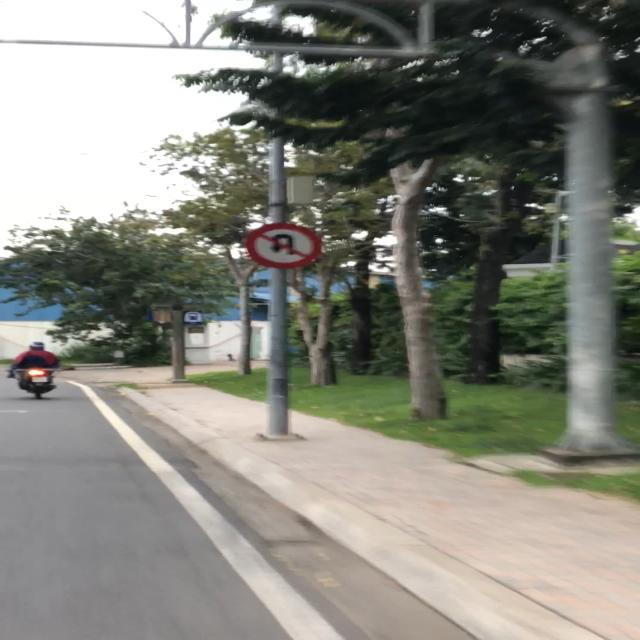Bien bao cam quay dau xe: (240, 221, 334, 269)
